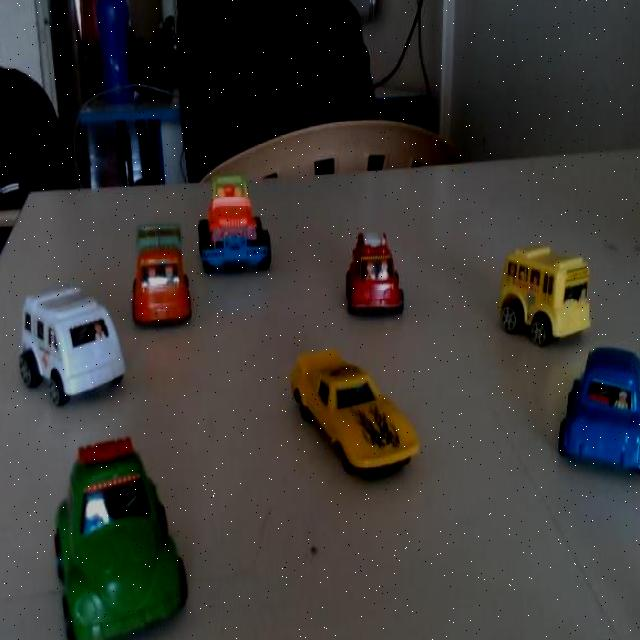car: (27, 440, 188, 634), (5, 264, 136, 428), (275, 346, 425, 483), (557, 342, 640, 486), (196, 162, 289, 280), (488, 245, 582, 354), (329, 219, 410, 336), (122, 210, 192, 332)
